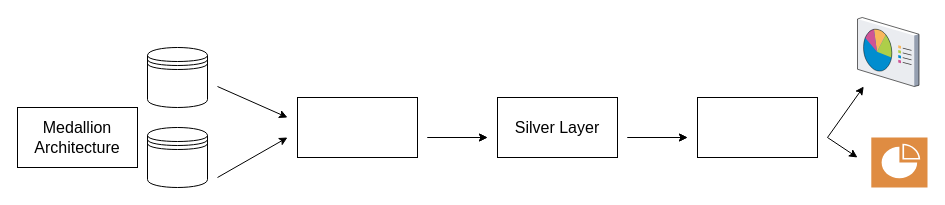
Some shapes in this 945 by 205 pixel diagram are drawn without their labels. Each missing label, with the box of its shape:
Bronze Layer: (296, 96, 418, 158)
Gold Layer: (696, 96, 818, 158)
